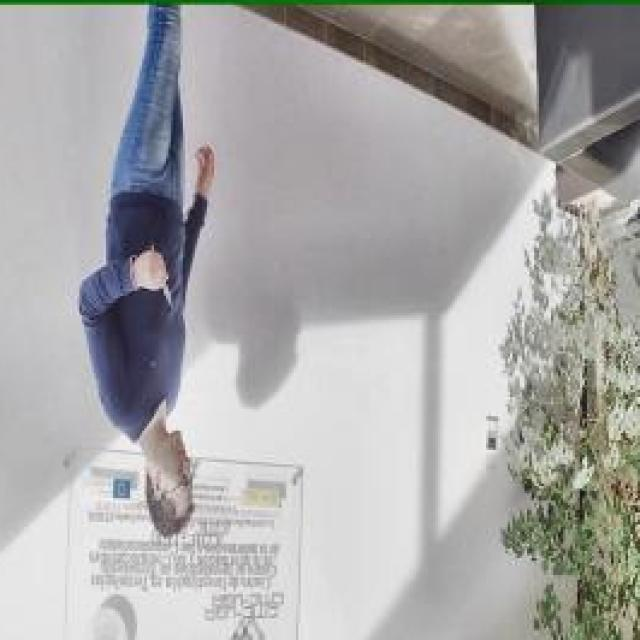knife: (149, 242, 176, 313)
